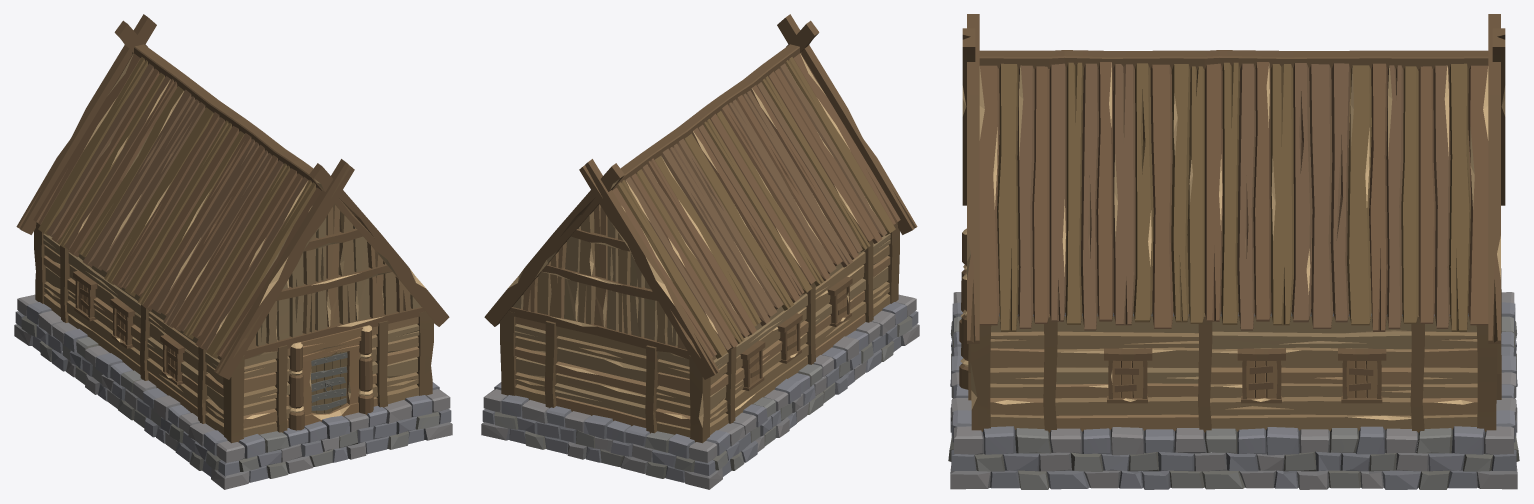
File: rpghouse1.obj
3 views of the same model, side by side, from view 1: azimuth 30°, elevation 25°; view 2: azimuth 150°, elevation 25°; view 3: azimuth 270°, elevation 25° (orthographic). The views are drawn at different scales.
Parts seen in each view (by area): view 1: rpgpp_lt_building_01; view 2: rpgpp_lt_building_01; view 3: rpgpp_lt_building_01.
Part boxes in pixels (x1,y1,x2,y2): rpgpp_lt_building_01: (14, 14, 452, 489); rpgpp_lt_building_01: (481, 14, 919, 489); rpgpp_lt_building_01: (948, 14, 1519, 489).
Size of the model in its own units: 8.4 by 10.18 by 13.36.
Materials: 1 (1 with a texture image).
